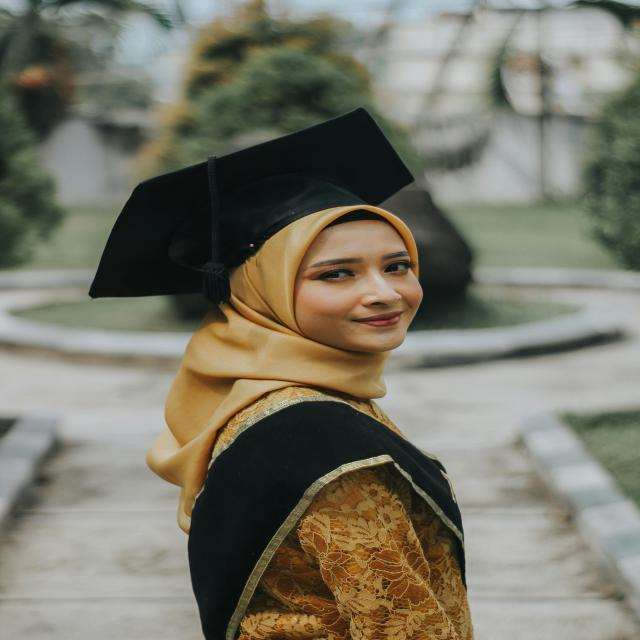human: (91, 140, 507, 640)
